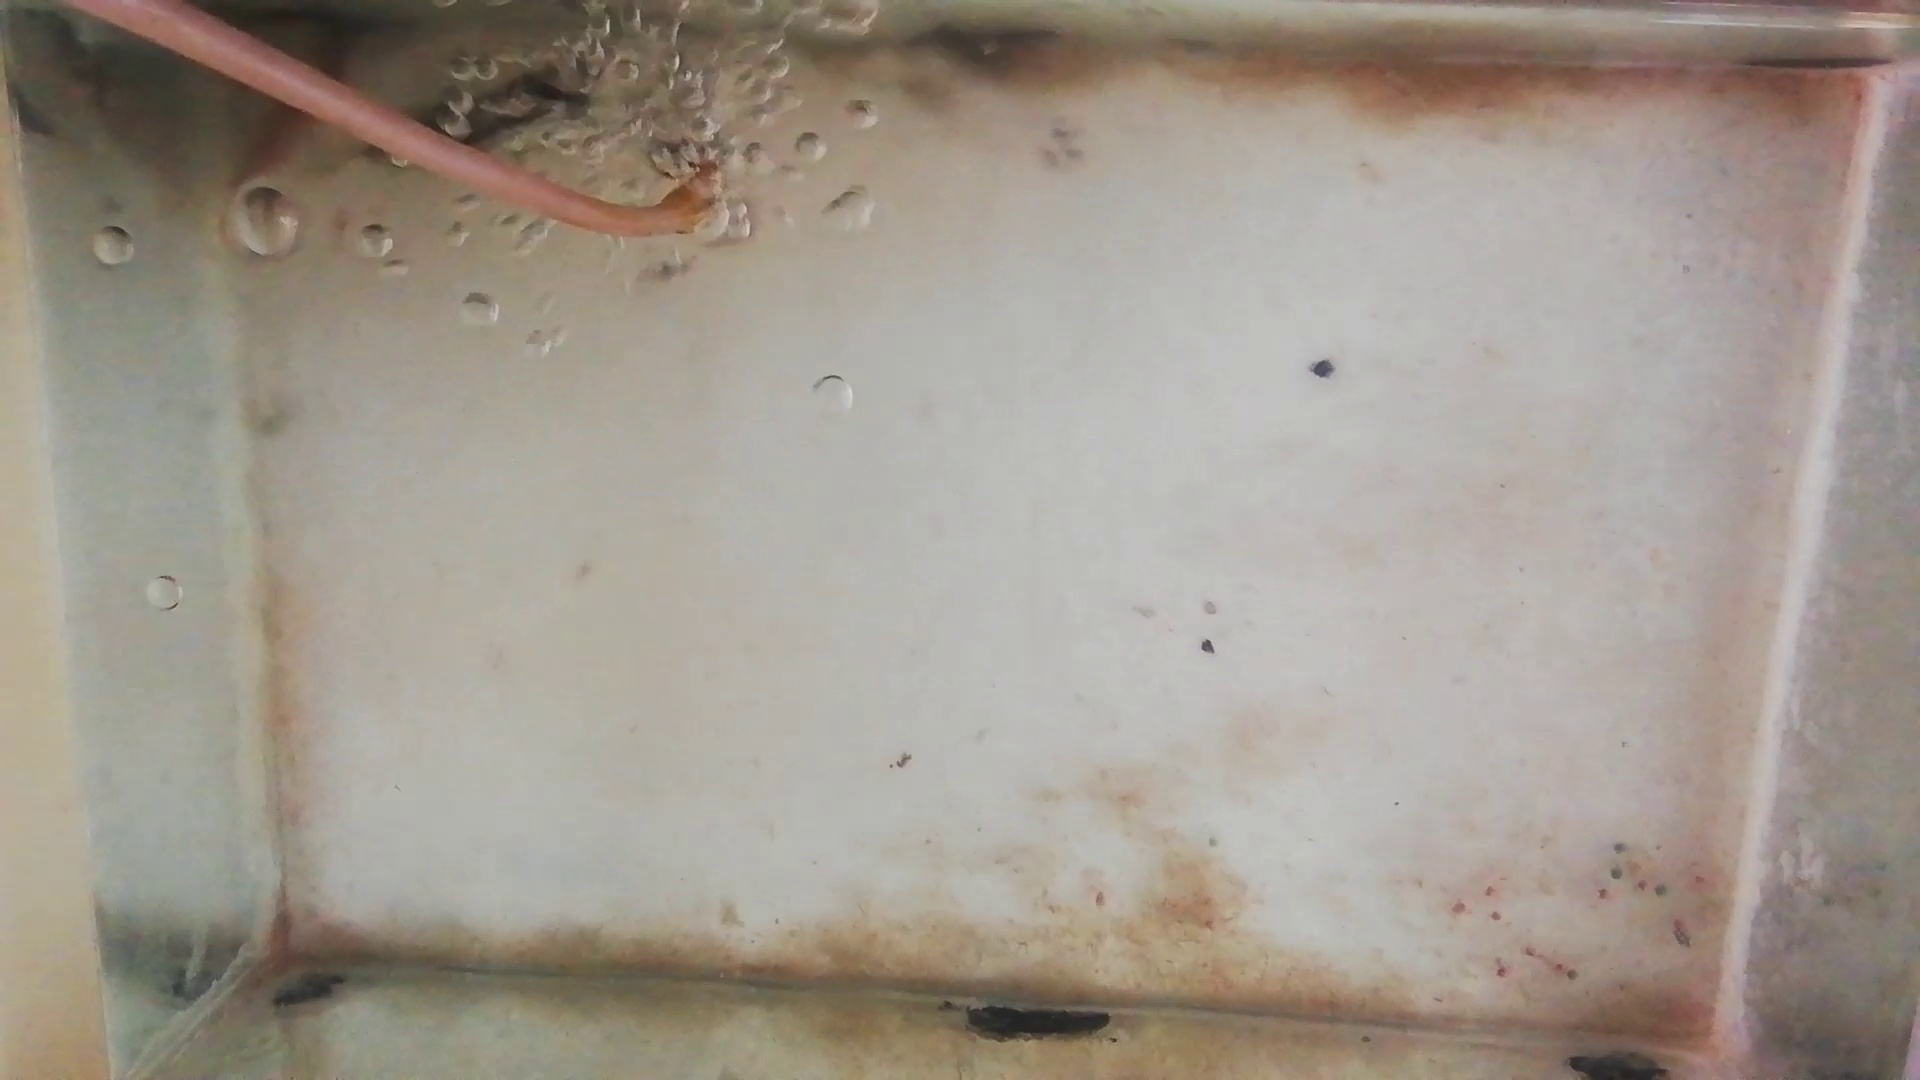fish: (237, 30, 349, 173), (393, 76, 582, 141)
